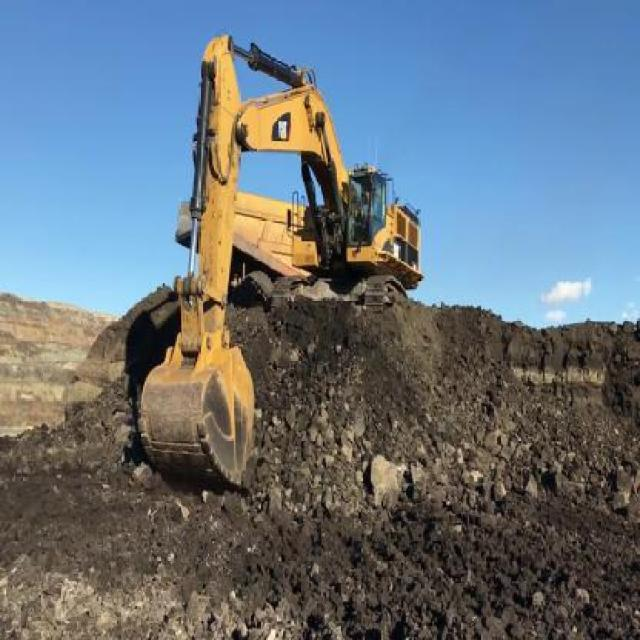dump_truck: (175, 179, 291, 283)
excavator: (139, 16, 426, 492)
